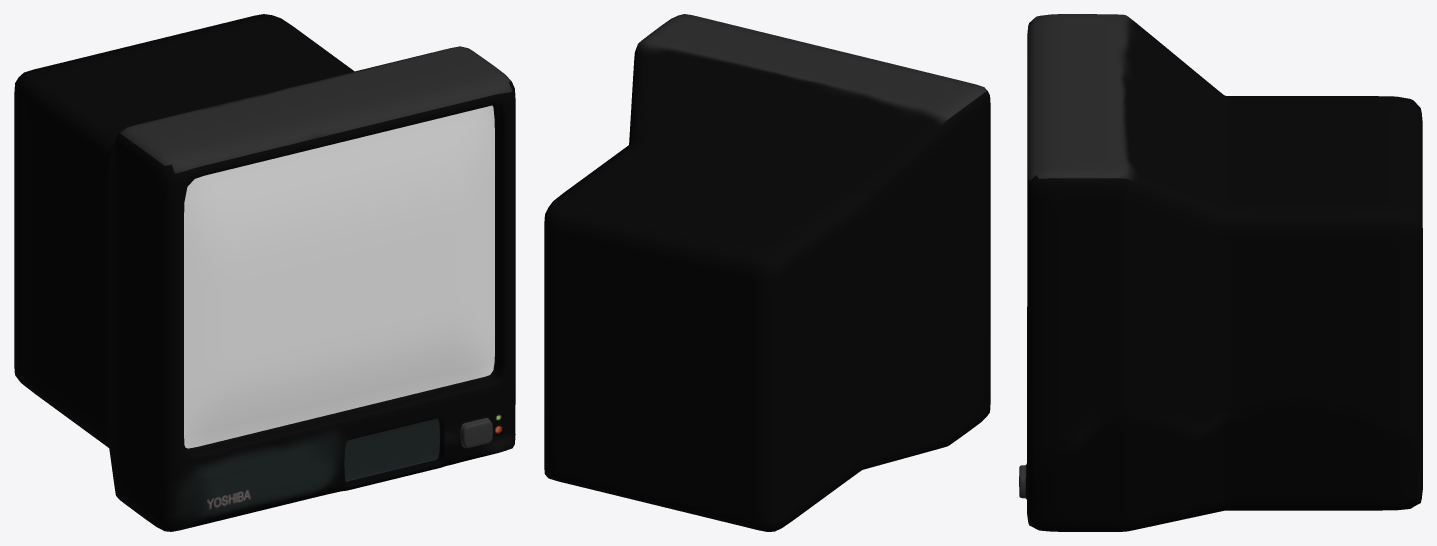
File: yoshiba_tv.glb
3 renders of one model, left to right at view 1: azimuth 30°, elevation 25°; view 2: azimuth 150°, elevation 25°; view 3: azimuth 270°, elevation 25°, orthographic. The views are drawn at different scales.
Parts seen in each view (by area): view 1: TV, Screen; view 2: TV; view 3: TV.
Boxes of the visible parts, x1,y1,x2,y2 form: TV: (14, 14, 515, 531); Screen: (184, 105, 494, 448); TV: (544, 14, 990, 531); TV: (1019, 14, 1422, 531).
Size of the model in its own units: 2 by 2 by 2.04.
Materials: 2 (1 with a texture image).
